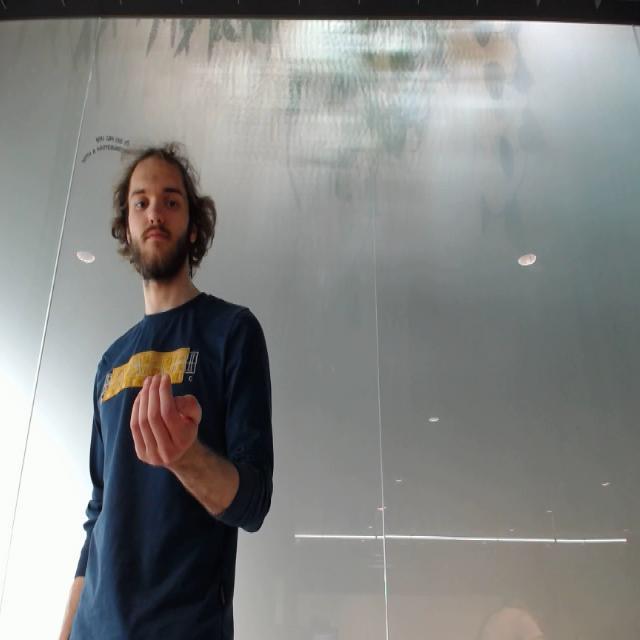forward: (124, 373, 213, 469)
